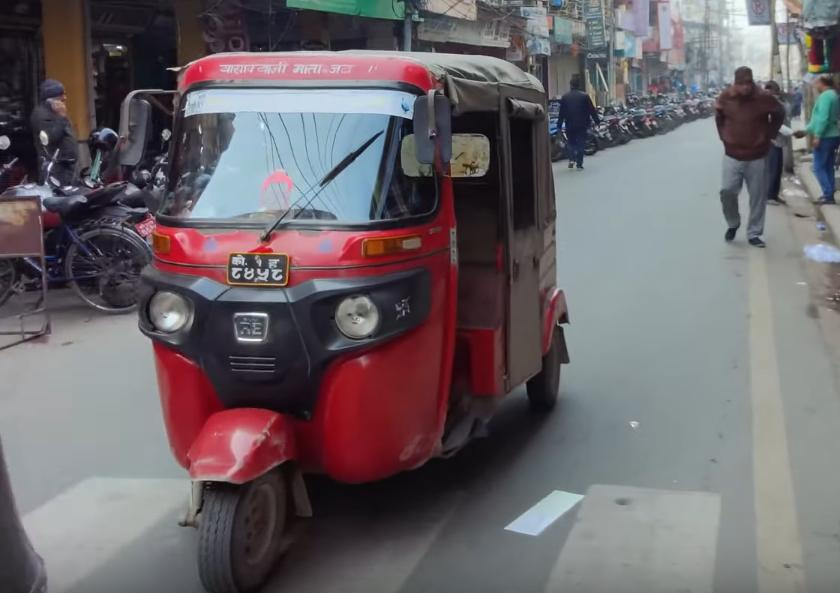auto_rickshaw: (115, 45, 579, 593)
